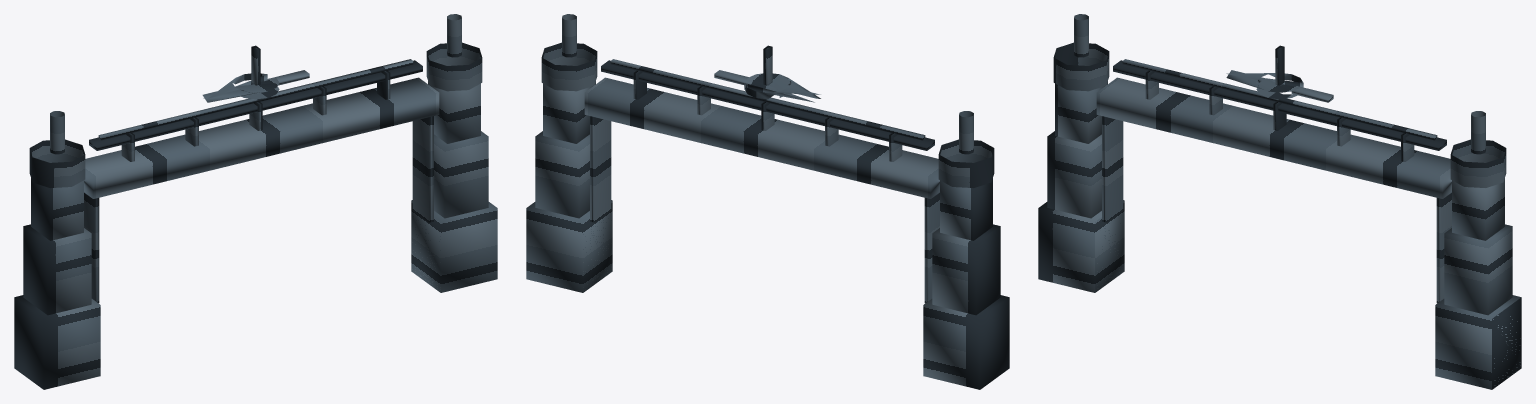
Rendered from SM_Landmark_BridgeGantry_A.obj.
3 renders of one model, left to right at view 1: azimuth 30°, elevation 25°; view 2: azimuth 150°, elevation 25°; view 3: azimuth 330°, elevation 25°, orthographic.
Visible parts, largest first — view 1: Stone, Truss, Trim, Crown, Crest, Spire; view 2: Stone, Truss, Trim, Crown, Crest, Spire; view 3: Stone, Truss, Trim, Crown, Crest, Spire.
Part boxes in pixels (left/top/right/bottom): Stone: left=14, top=77, right=497, bottom=389; Truss: left=89, top=59, right=422, bottom=150; Trim: left=84, top=70, right=433, bottom=303; Crown: left=29, top=42, right=482, bottom=187; Crest: left=202, top=45, right=309, bottom=102; Spire: left=50, top=14, right=461, bottom=154; Stone: left=526, top=77, right=1009, bottom=389; Truss: left=601, top=59, right=934, bottom=150; Trim: left=590, top=70, right=939, bottom=303; Crown: left=541, top=42, right=994, bottom=187; Crest: left=714, top=45, right=820, bottom=102; Spire: left=562, top=14, right=973, bottom=154; Stone: left=1038, top=77, right=1521, bottom=389; Truss: left=1113, top=59, right=1446, bottom=150; Trim: left=1102, top=70, right=1451, bottom=303; Crown: left=1053, top=42, right=1506, bottom=187; Crest: left=1226, top=45, right=1333, bottom=102; Spire: left=1074, top=14, right=1485, bottom=154.
Size of the model in its own units: 16 by 9.3 by 1.8.
Materials: 1 (1 with a texture image).
